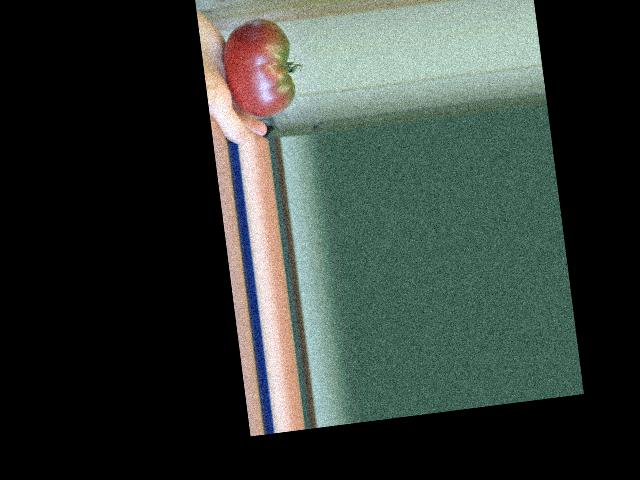tomato: (218, 15, 298, 121)
